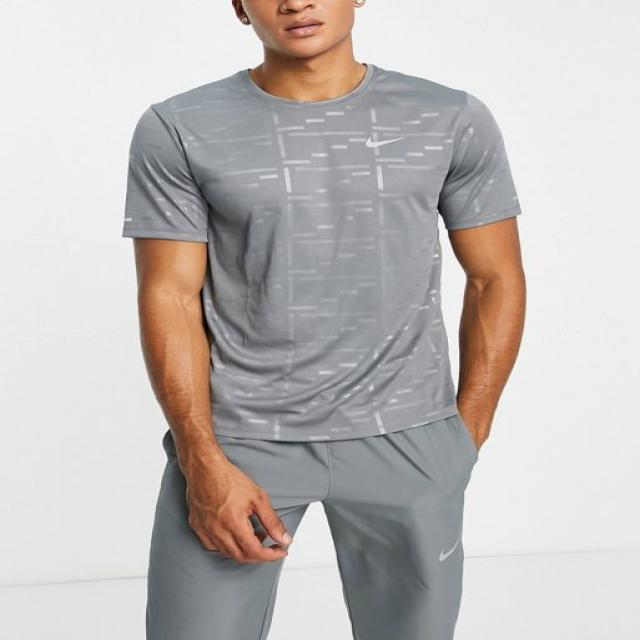tshirt: (121, 62, 523, 442)
